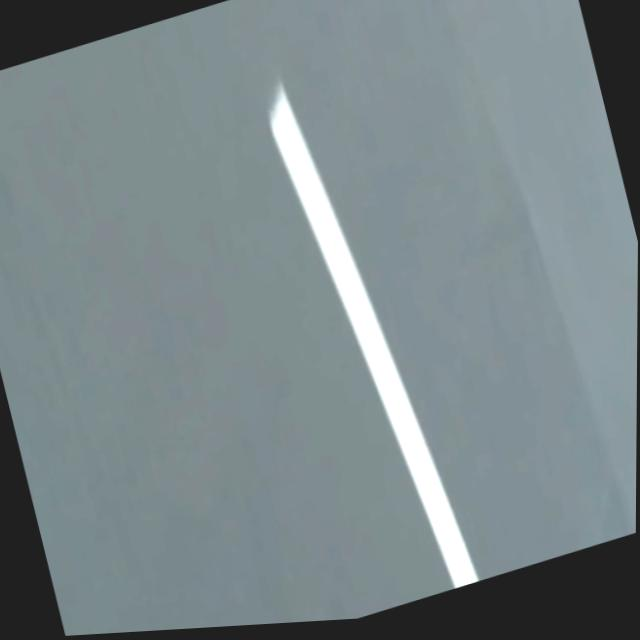center: (270, 83, 480, 588)
